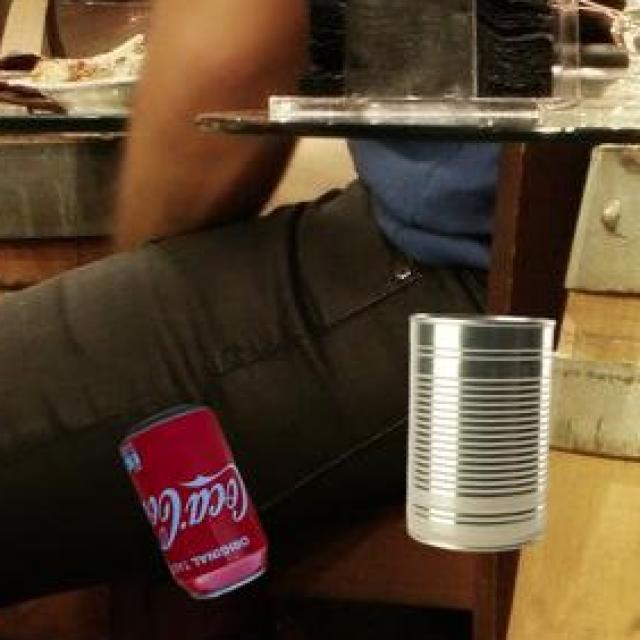logam: (403, 312, 553, 548), (117, 403, 264, 596)
